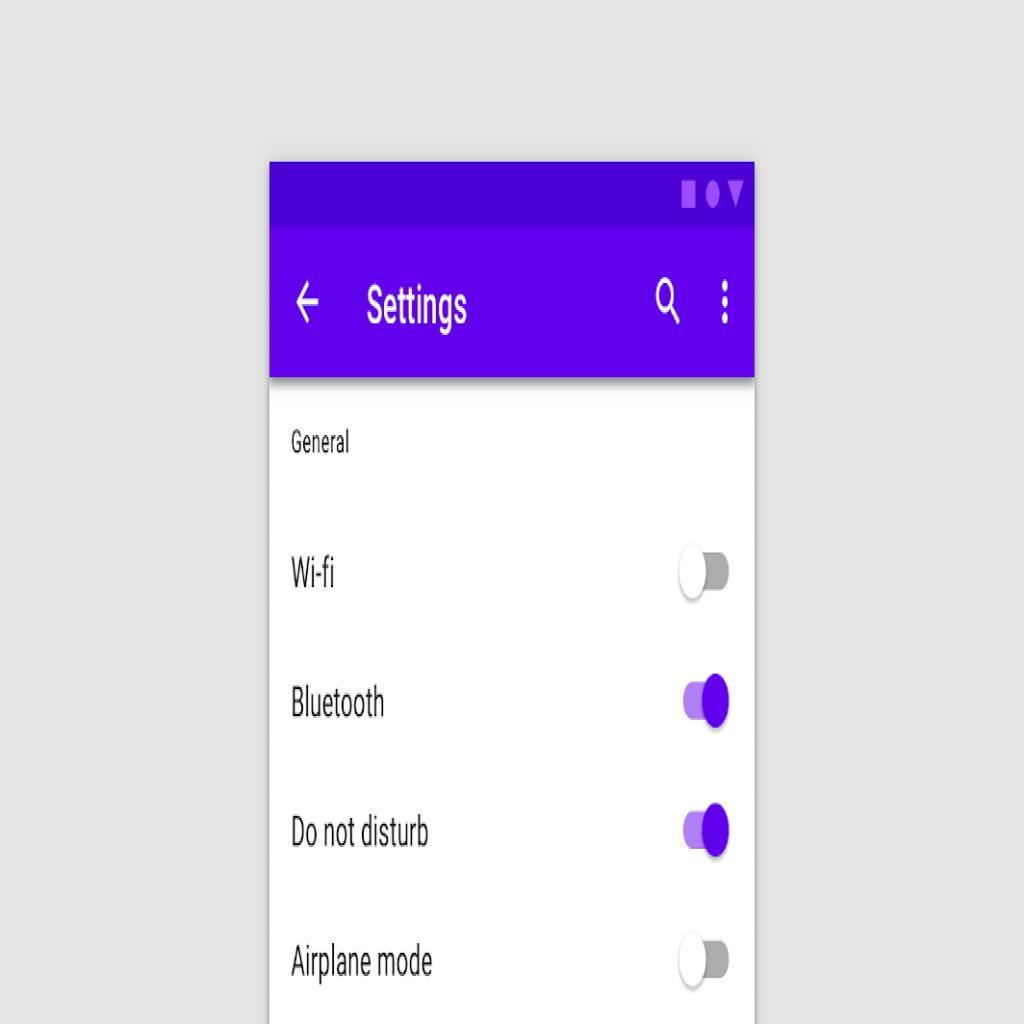icon: (651, 274, 687, 336), (713, 276, 737, 336)
switch: (676, 933, 734, 990), (683, 673, 735, 735), (678, 544, 732, 598), (682, 806, 732, 855)
